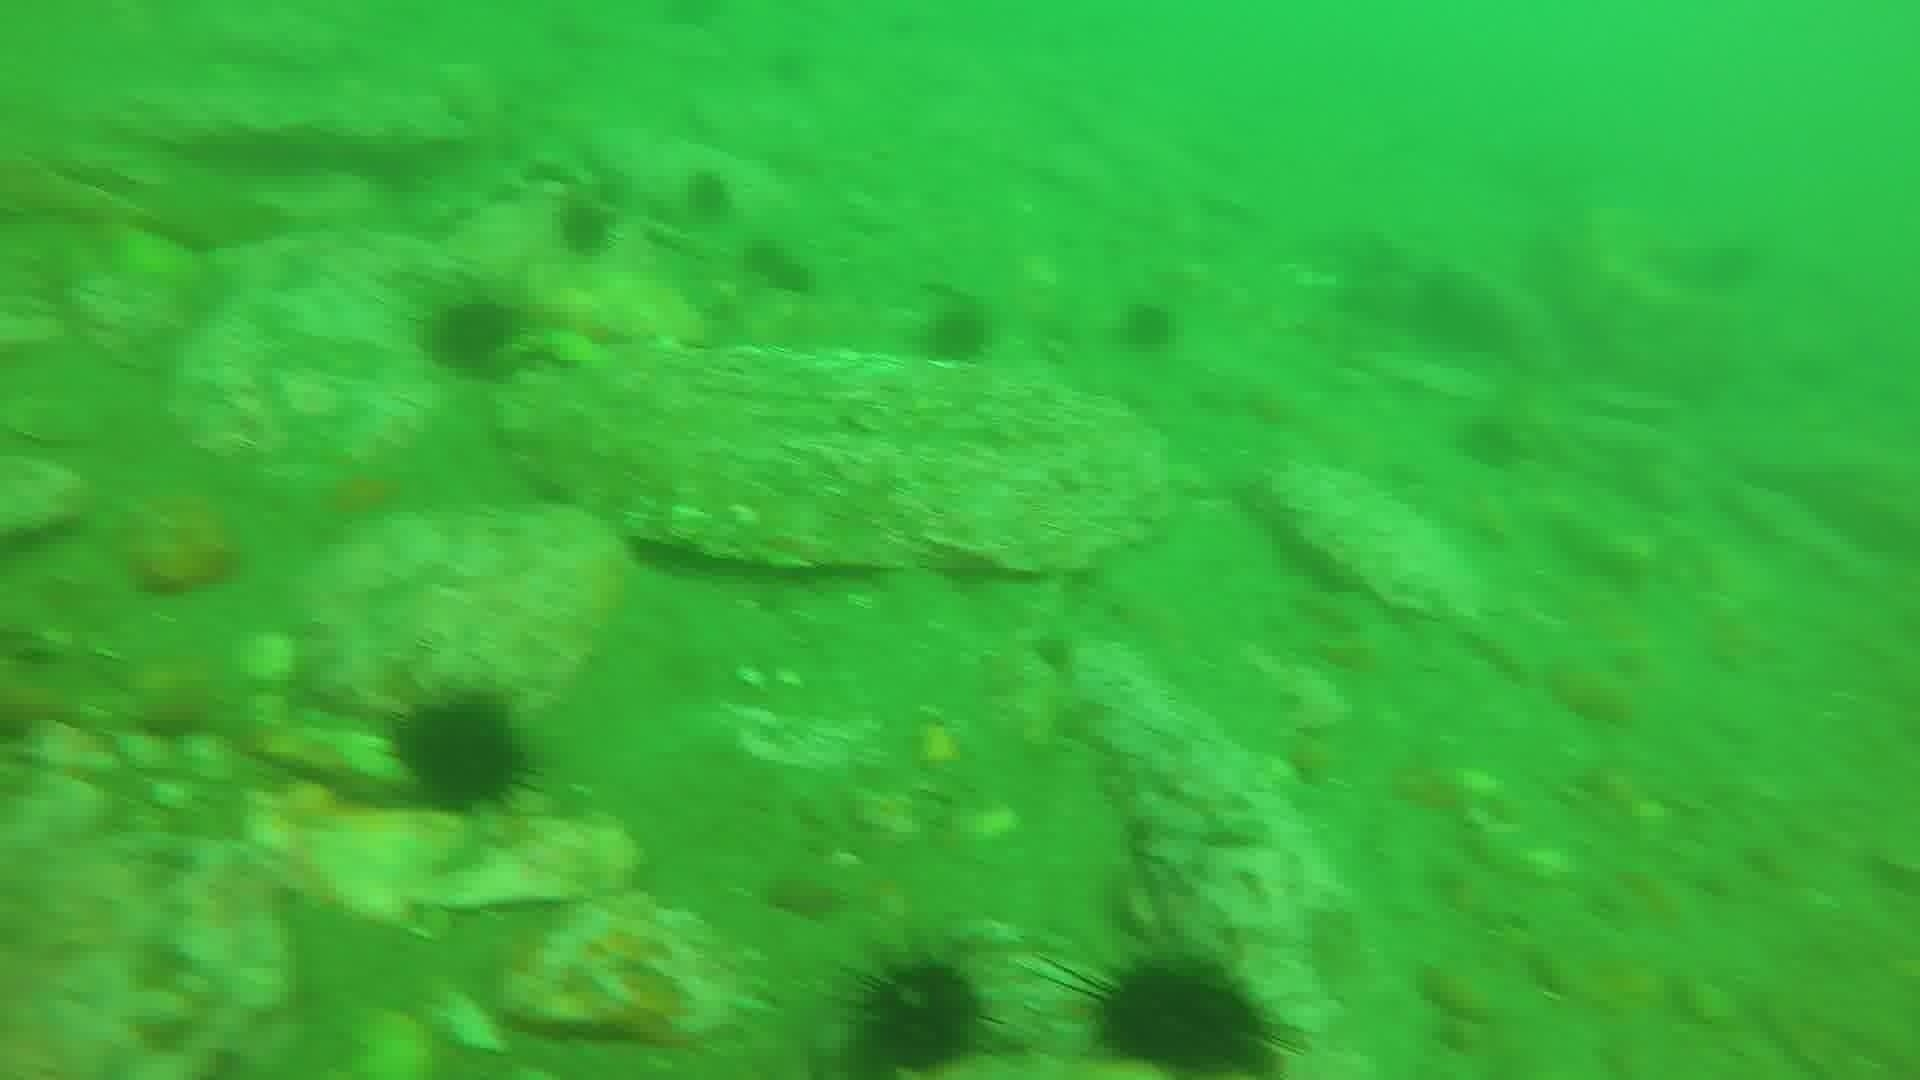echinus: (1077, 949, 1283, 1073), (386, 690, 535, 818), (841, 948, 994, 1072), (419, 291, 527, 381), (915, 298, 1000, 371), (1451, 409, 1530, 476), (738, 235, 818, 301), (549, 193, 620, 261), (1112, 295, 1183, 357), (678, 165, 738, 228)
